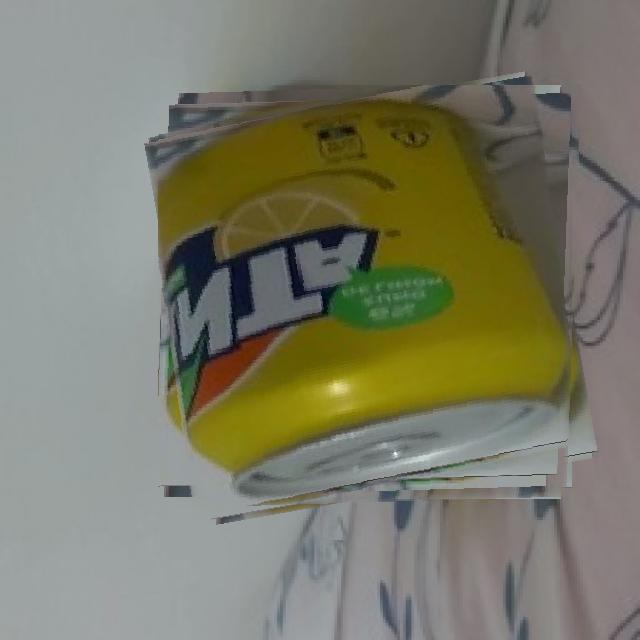recyclable: (158, 86, 582, 510)
